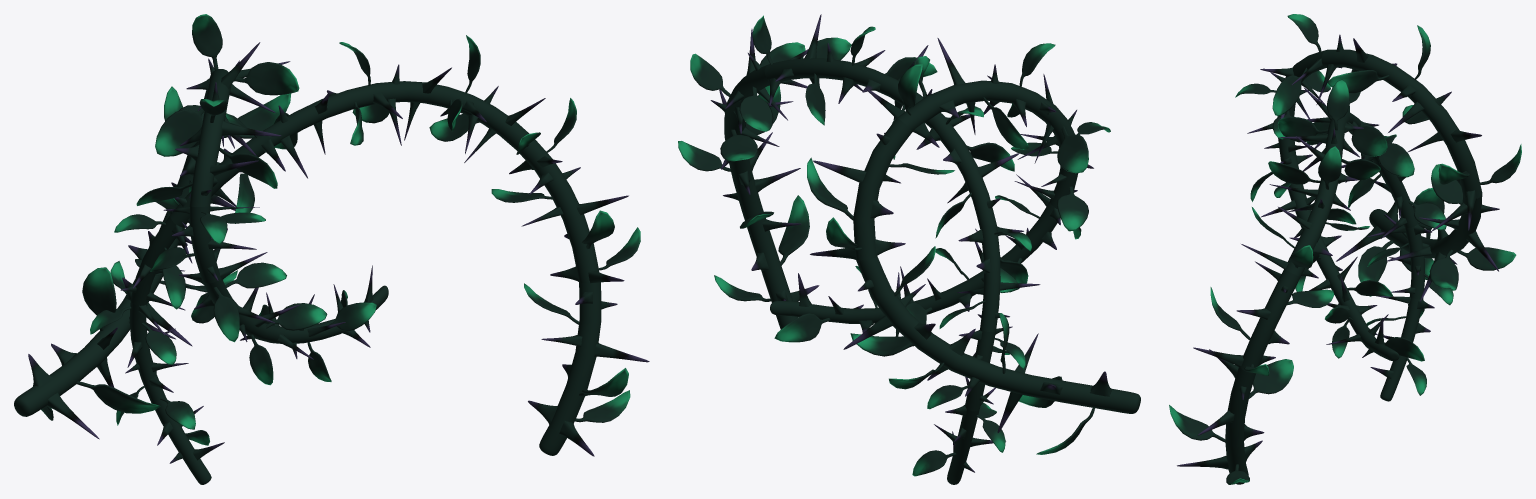
The model's file is Vine_set.fbx.
3 renders of one model, left to right at view 1: azimuth 30°, elevation 25°; view 2: azimuth 150°, elevation 25°; view 3: azimuth 270°, elevation 25°, orthographic. The views are drawn at different scales.
Visible parts, largest first — view 1: Vine_set; view 2: Vine_set; view 3: Vine_set.
Boxes of the visible parts, box(x1,y1,x2,y2) form: Vine_set: box(14, 14, 649, 484); Vine_set: box(678, 14, 1140, 484); Vine_set: box(1169, 14, 1521, 484).
Size of the model in its own units: 135 by 105 by 87.84.
Materials: 1 (1 with a texture image).
